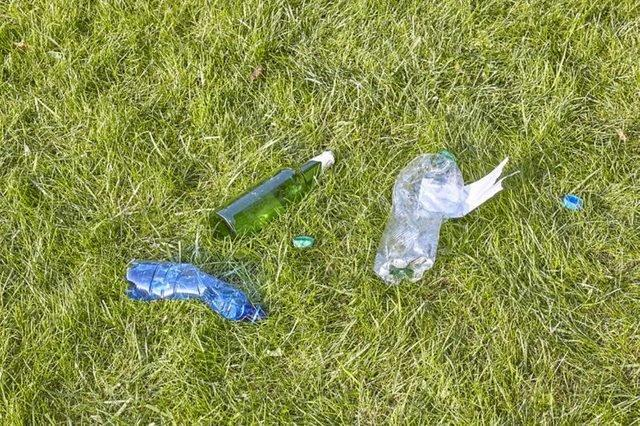bottle: (181, 252, 220, 328), (427, 135, 432, 292)
